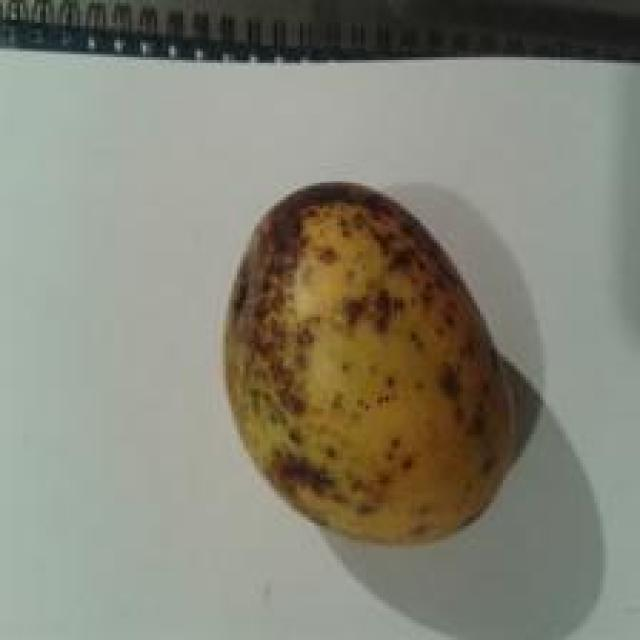Wet Waste: (227, 171, 516, 546)
